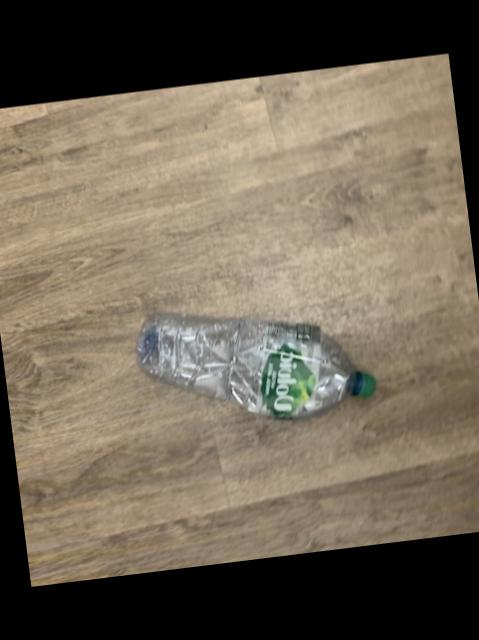plastic: (137, 315, 375, 420)
